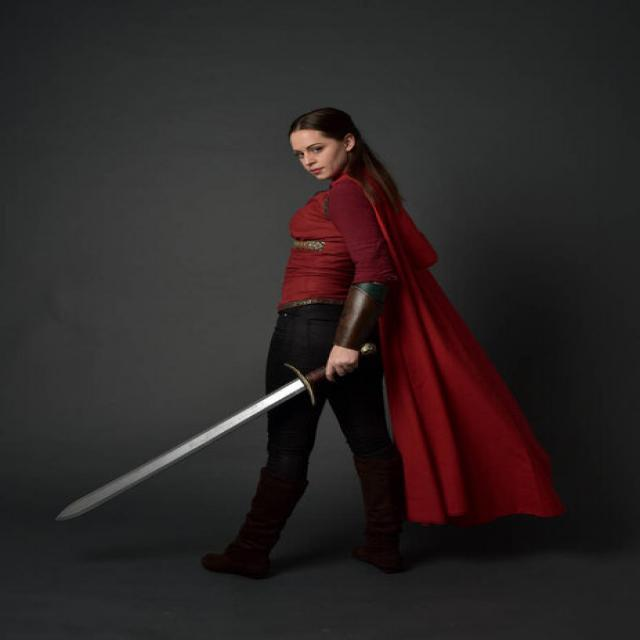long sword: (41, 329, 394, 522)
